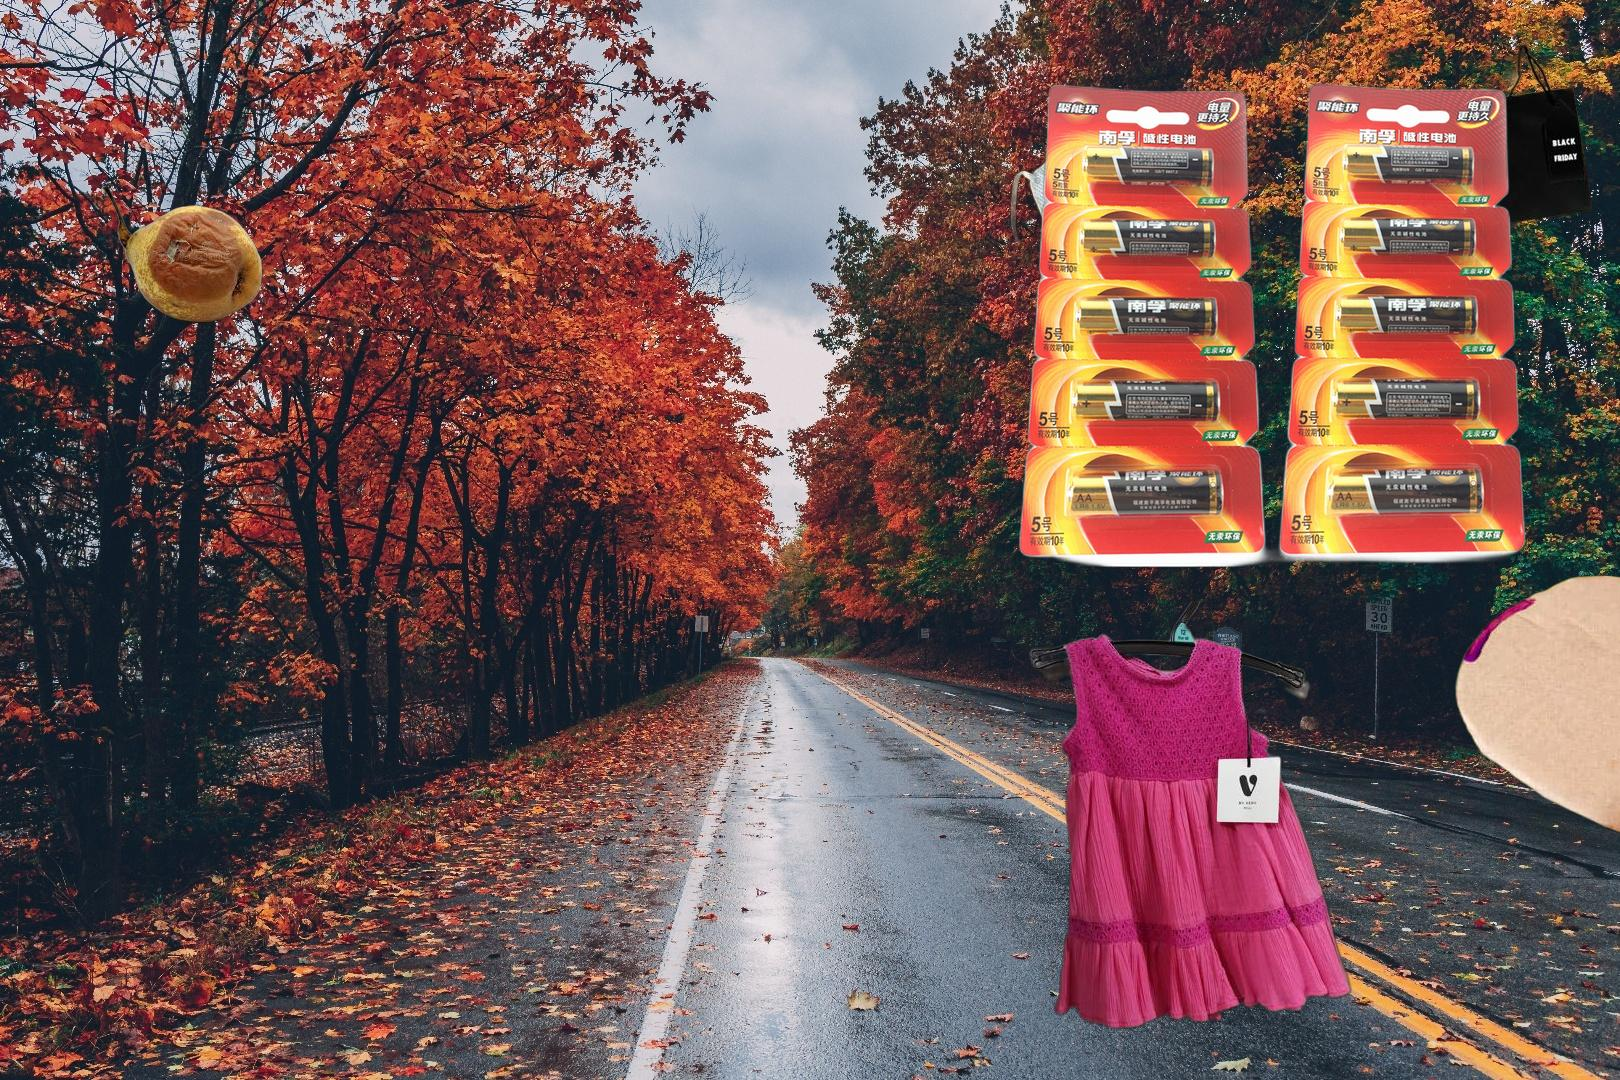battery: (1012, 80, 1531, 573)
biological: (99, 182, 264, 325), (1495, 790, 1620, 972)
clothes: (1023, 601, 1354, 1033)
metal-cans: (864, 890, 1146, 1080)
paper-bag: (1477, 43, 1596, 228)
trash: (1005, 110, 1193, 313)
trashbox-cardboard: (1449, 573, 1620, 857)
